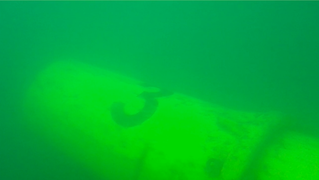3: (109, 81, 175, 127)
pipe: (21, 58, 319, 180)
